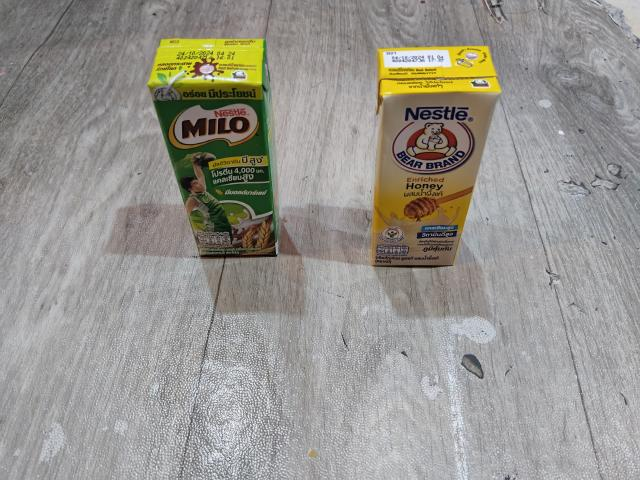drink_box: (138, 30, 288, 270), (362, 40, 512, 273)
